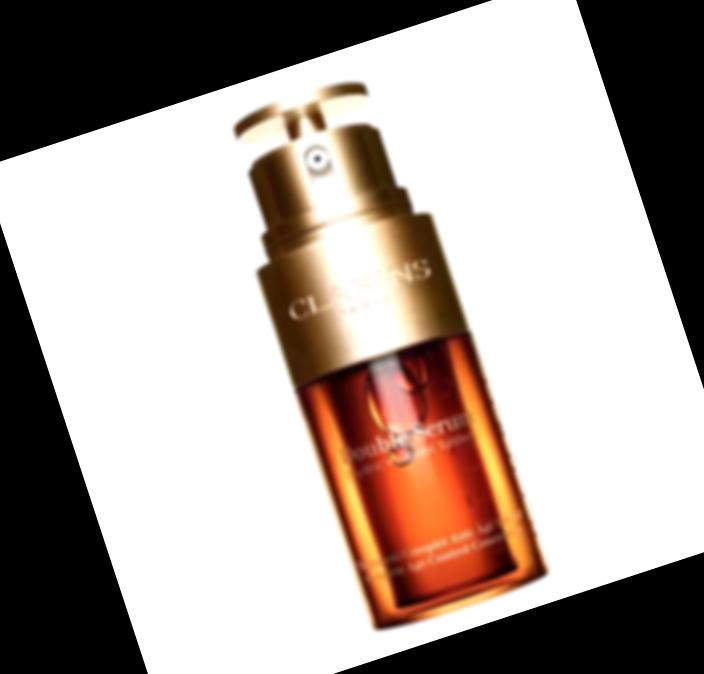cosmetic: (198, 58, 551, 633)
